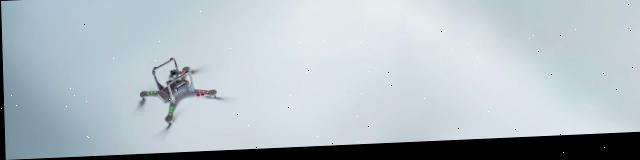drone: (111, 43, 244, 151)
